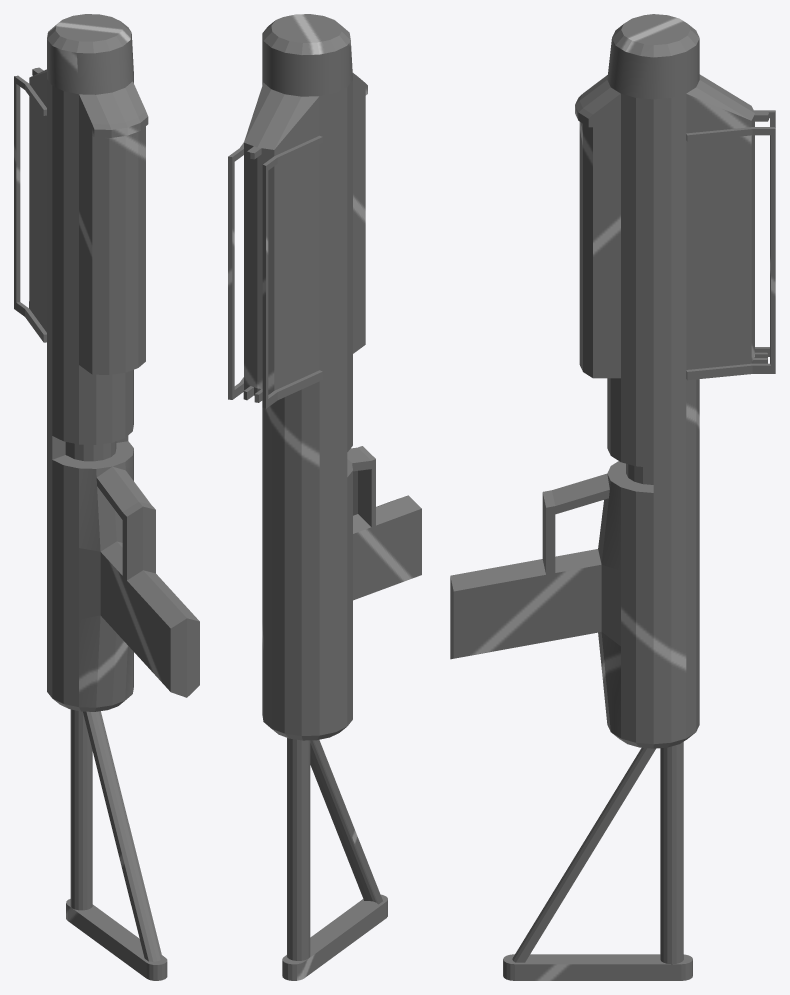
The model's file is FSS-S2-MainBody.obj.
The picture shows the model from 3 angles, left to right: view 1: azimuth 30°, elevation 25°; view 2: azimuth 150°, elevation 25°; view 3: azimuth 270°, elevation 25°; orthographic projection. The views are drawn at different scales.
Visible parts, largest first — view 1: FSS-S2-MainBody; view 2: FSS-S2-MainBody; view 3: FSS-S2-MainBody.
Boxes of the visible parts, left/top/right/bottom form: FSS-S2-MainBody: left=14, top=14, right=199, bottom=980; FSS-S2-MainBody: left=228, top=14, right=421, bottom=980; FSS-S2-MainBody: left=450, top=14, right=775, bottom=980.
Size of the model in its own units: 1 by 11.3 by 3.52.
